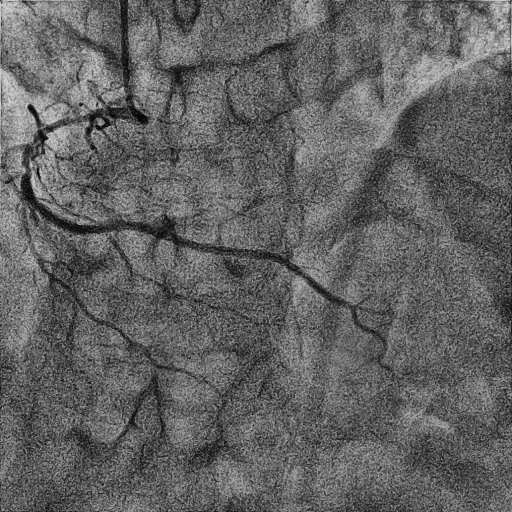pda: (116, 220, 354, 309)
rca: (21, 107, 130, 233)
